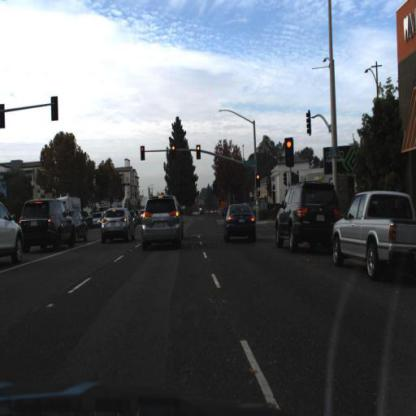car: (329, 188, 415, 278), (274, 180, 342, 252), (18, 198, 76, 253), (141, 194, 184, 251), (0, 199, 26, 266), (223, 202, 256, 243), (100, 206, 136, 243), (65, 208, 88, 240)
trafficLight: (139, 145, 145, 160)
trafficLight-Red: (283, 136, 295, 165), (254, 170, 261, 189), (170, 144, 176, 160), (195, 142, 200, 160), (256, 174, 260, 188)
truck: (56, 193, 82, 214)
